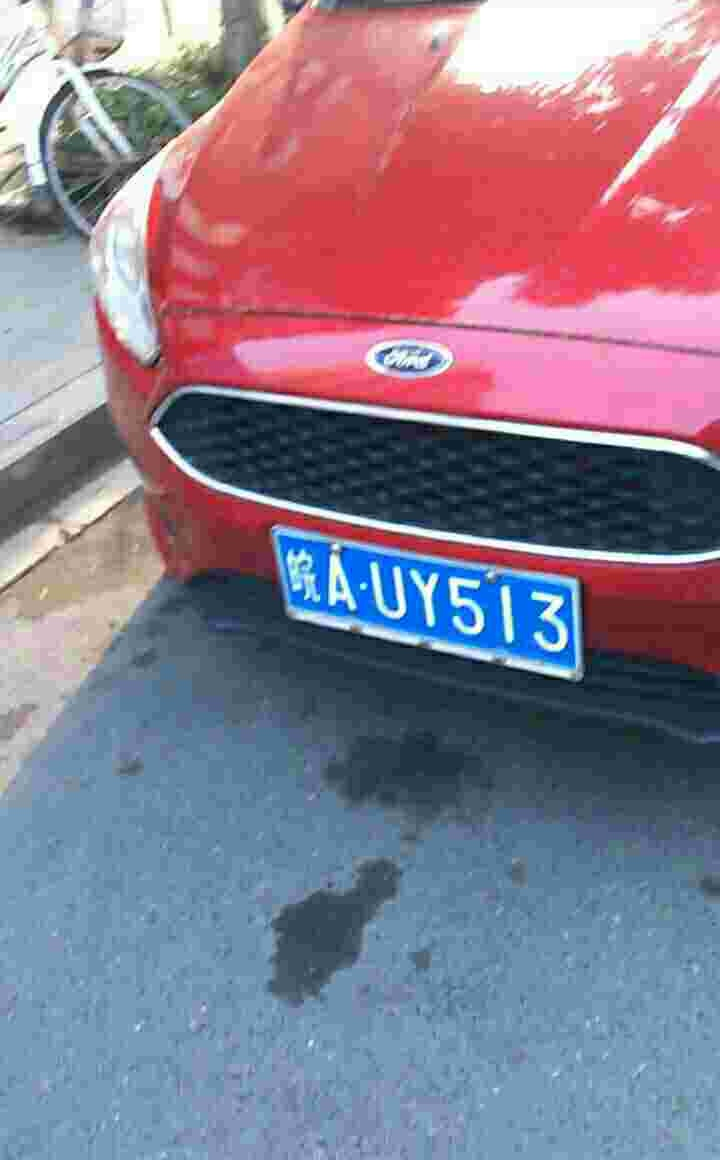license_plate: (273, 521, 582, 668)
